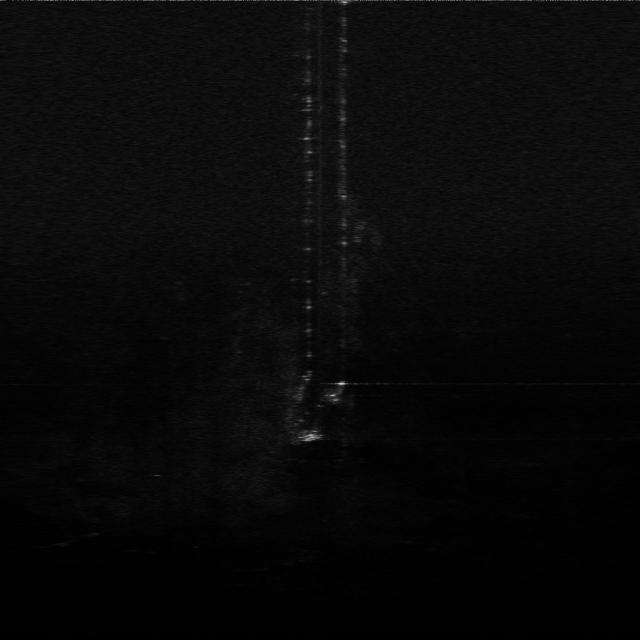rov: (296, 428, 326, 445)
